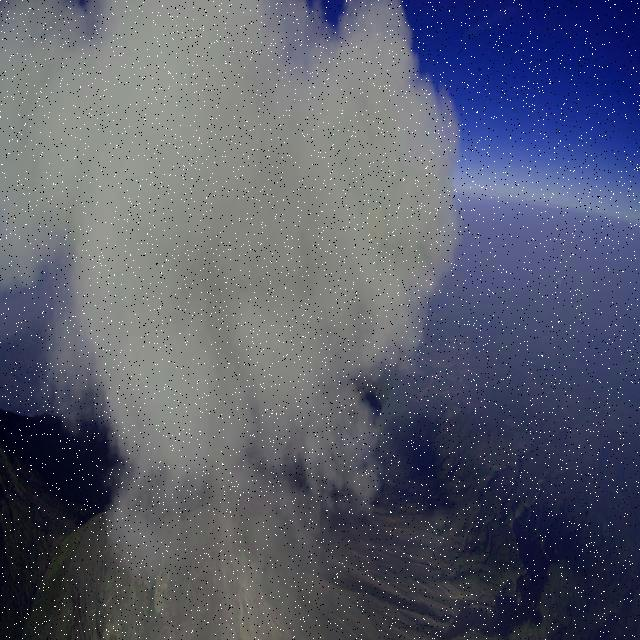Plume: (0, 0, 461, 561)
